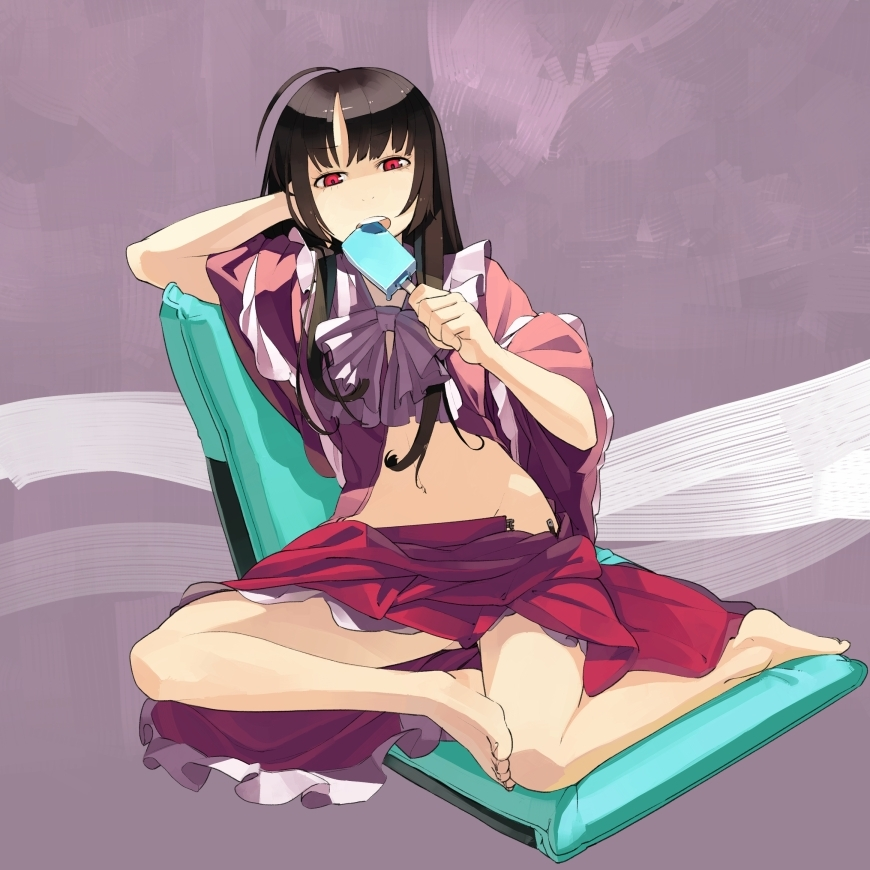anime face: (279, 137, 439, 692)
